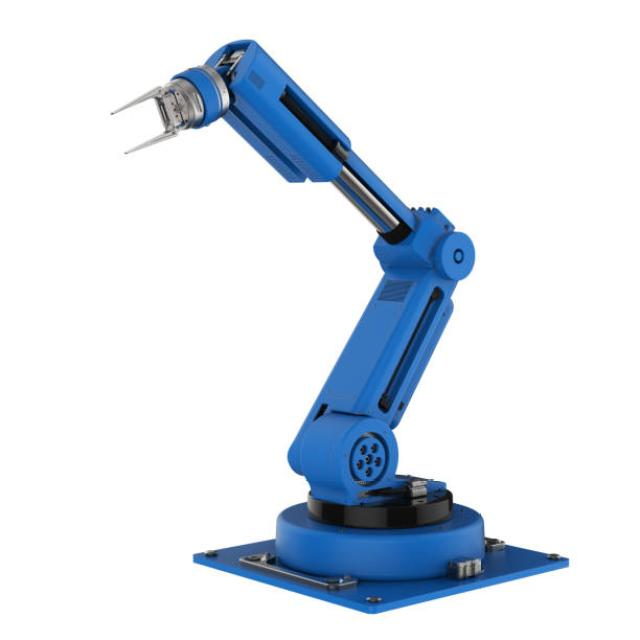Robotic-arm: (107, 26, 588, 618)
